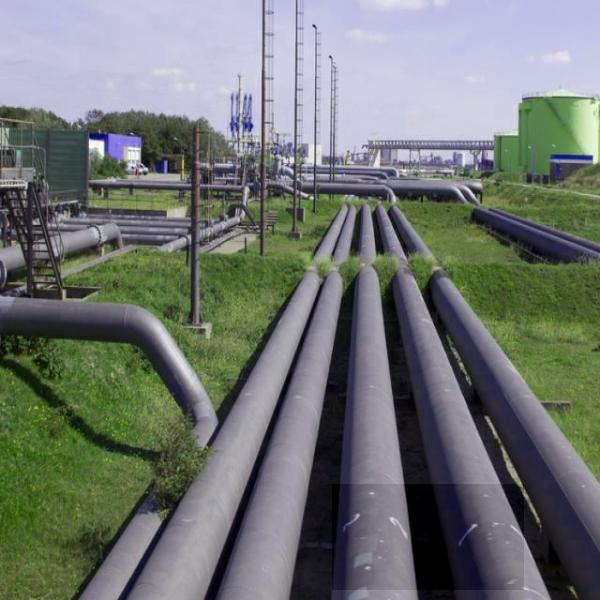crack: (332, 484, 524, 590)
